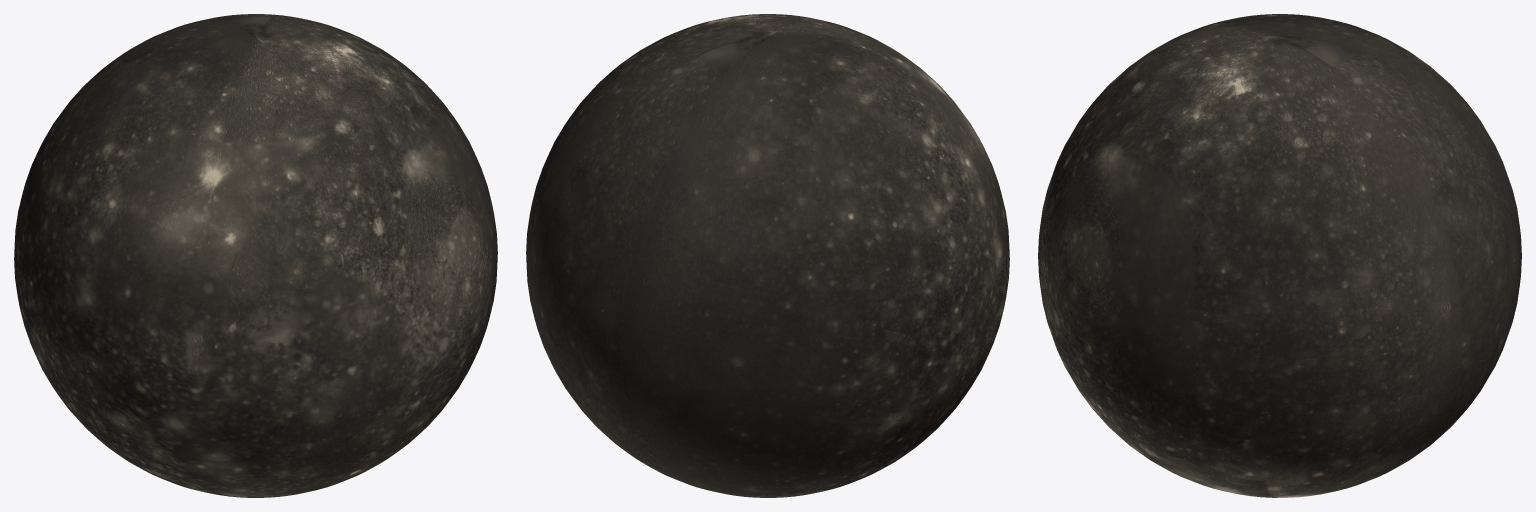
The model's file is ball-callisto.glb.
The picture shows the model from 3 angles, left to right: view 1: azimuth 30°, elevation 25°; view 2: azimuth 150°, elevation 25°; view 3: azimuth 270°, elevation 25°; orthographic projection.
Visible parts, largest first — view 1: voyager2; view 2: voyager2; view 3: voyager2.
Boxes of the visible parts, left/top/right/bottom form: voyager2: left=14, top=14, right=497, bottom=497; voyager2: left=526, top=14, right=1009, bottom=497; voyager2: left=1038, top=14, right=1521, bottom=497.
Size of the model in its own units: 2 by 2 by 2.
1 material, 1 textured.
